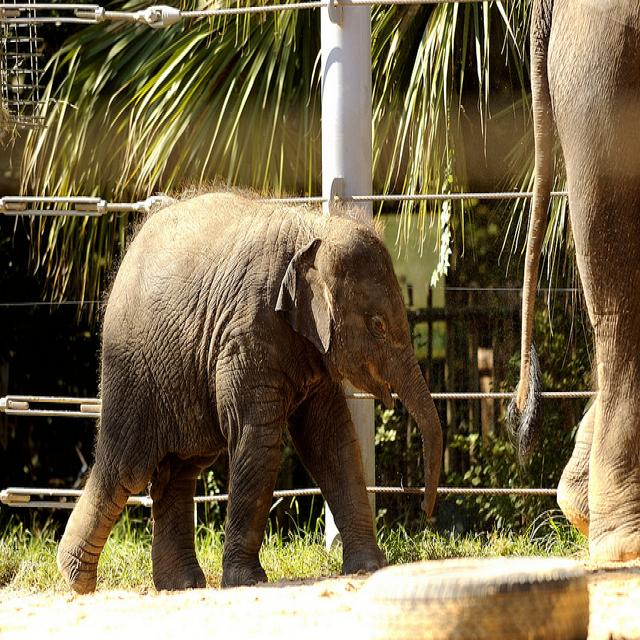Elephant: (55, 187, 443, 594), (505, 0, 639, 563)
